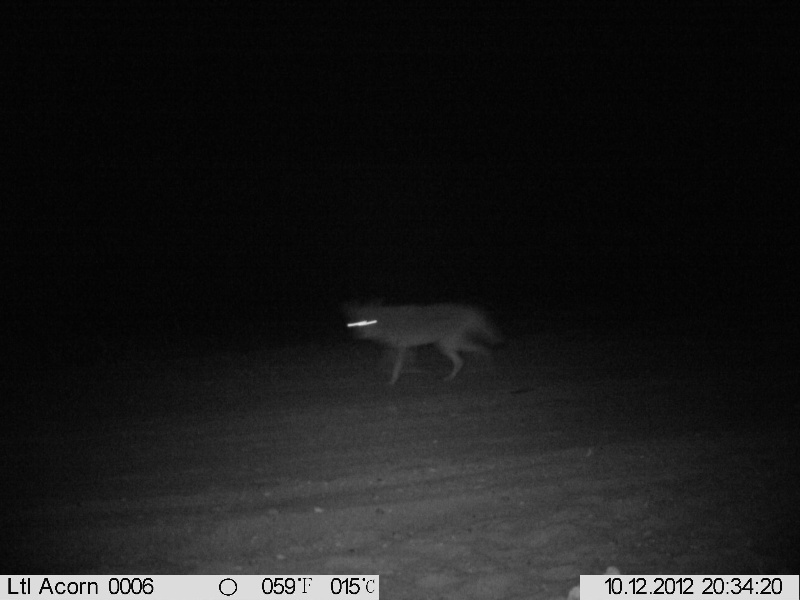coyote: (341, 298, 505, 390)
